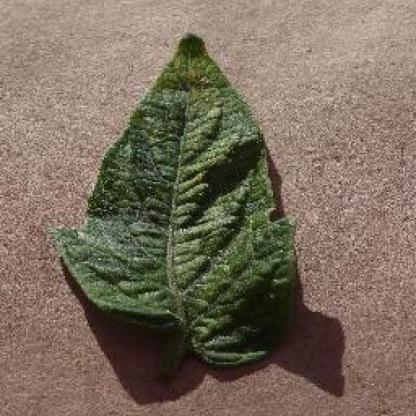Tomato_Spider_Mites: (60, 35, 298, 365)
